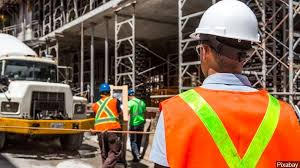hard hat: (188, 1, 260, 43), (98, 84, 110, 92)
high-vis: (157, 85, 300, 168), (93, 96, 122, 130)
